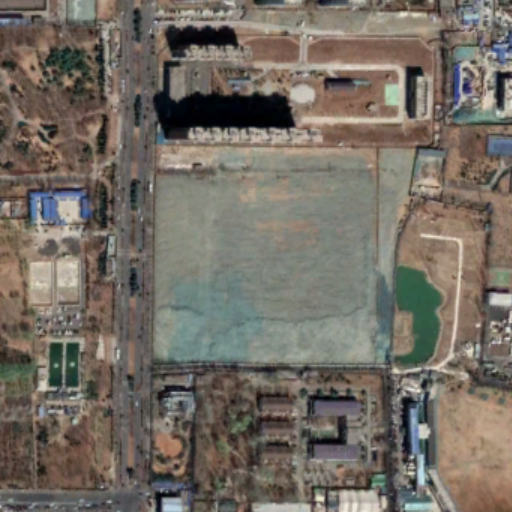cw: (149, 139, 427, 368)
